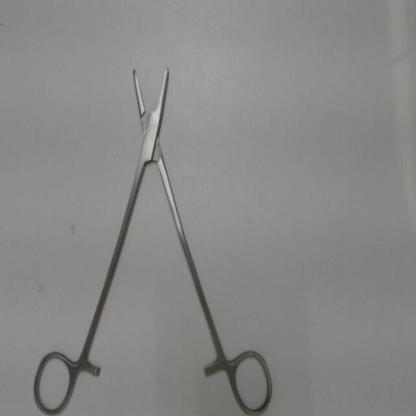8 Mayo Needle Holder: (26, 48, 281, 416)
